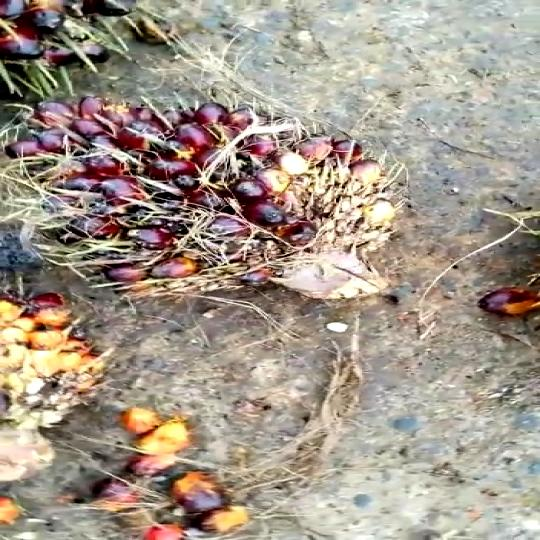kurang masak: (0, 74, 414, 330)
